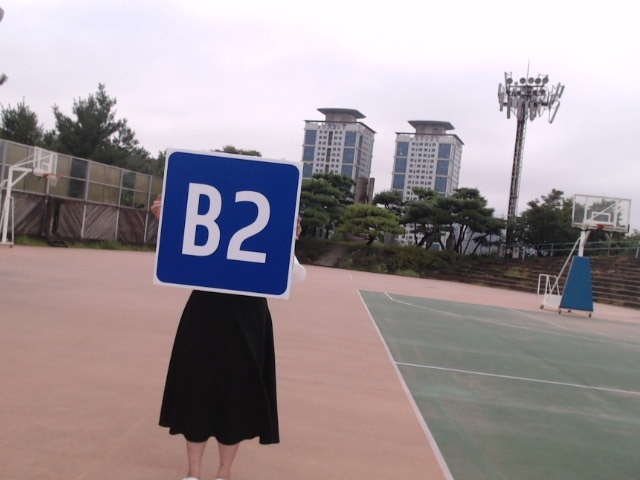delivery_b2: (155, 150, 301, 296)
